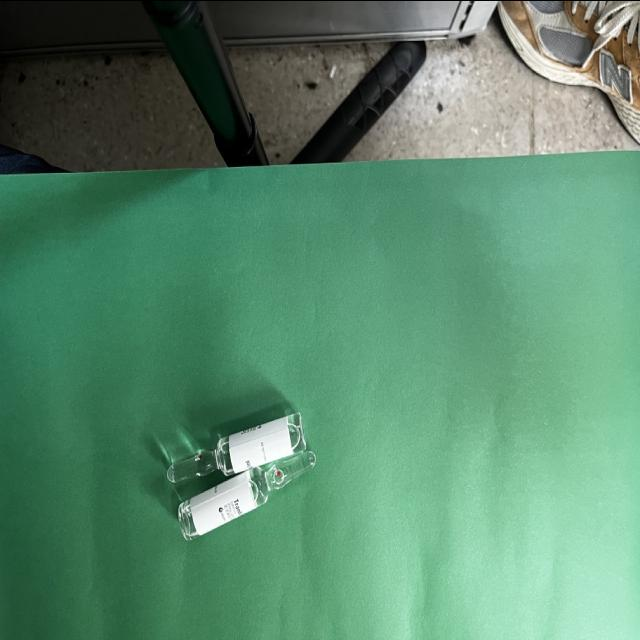Ampoules: (167, 411, 316, 539)
